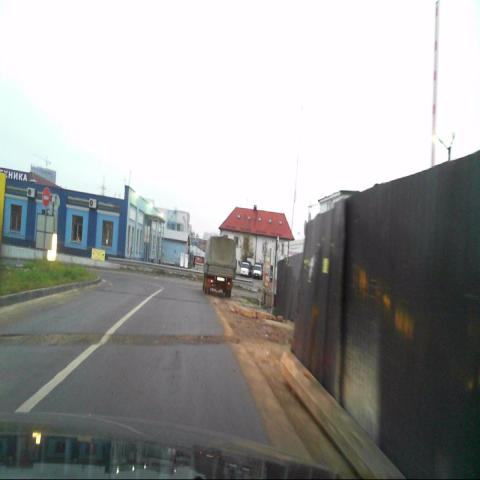3_1: (42, 188, 50, 207)
